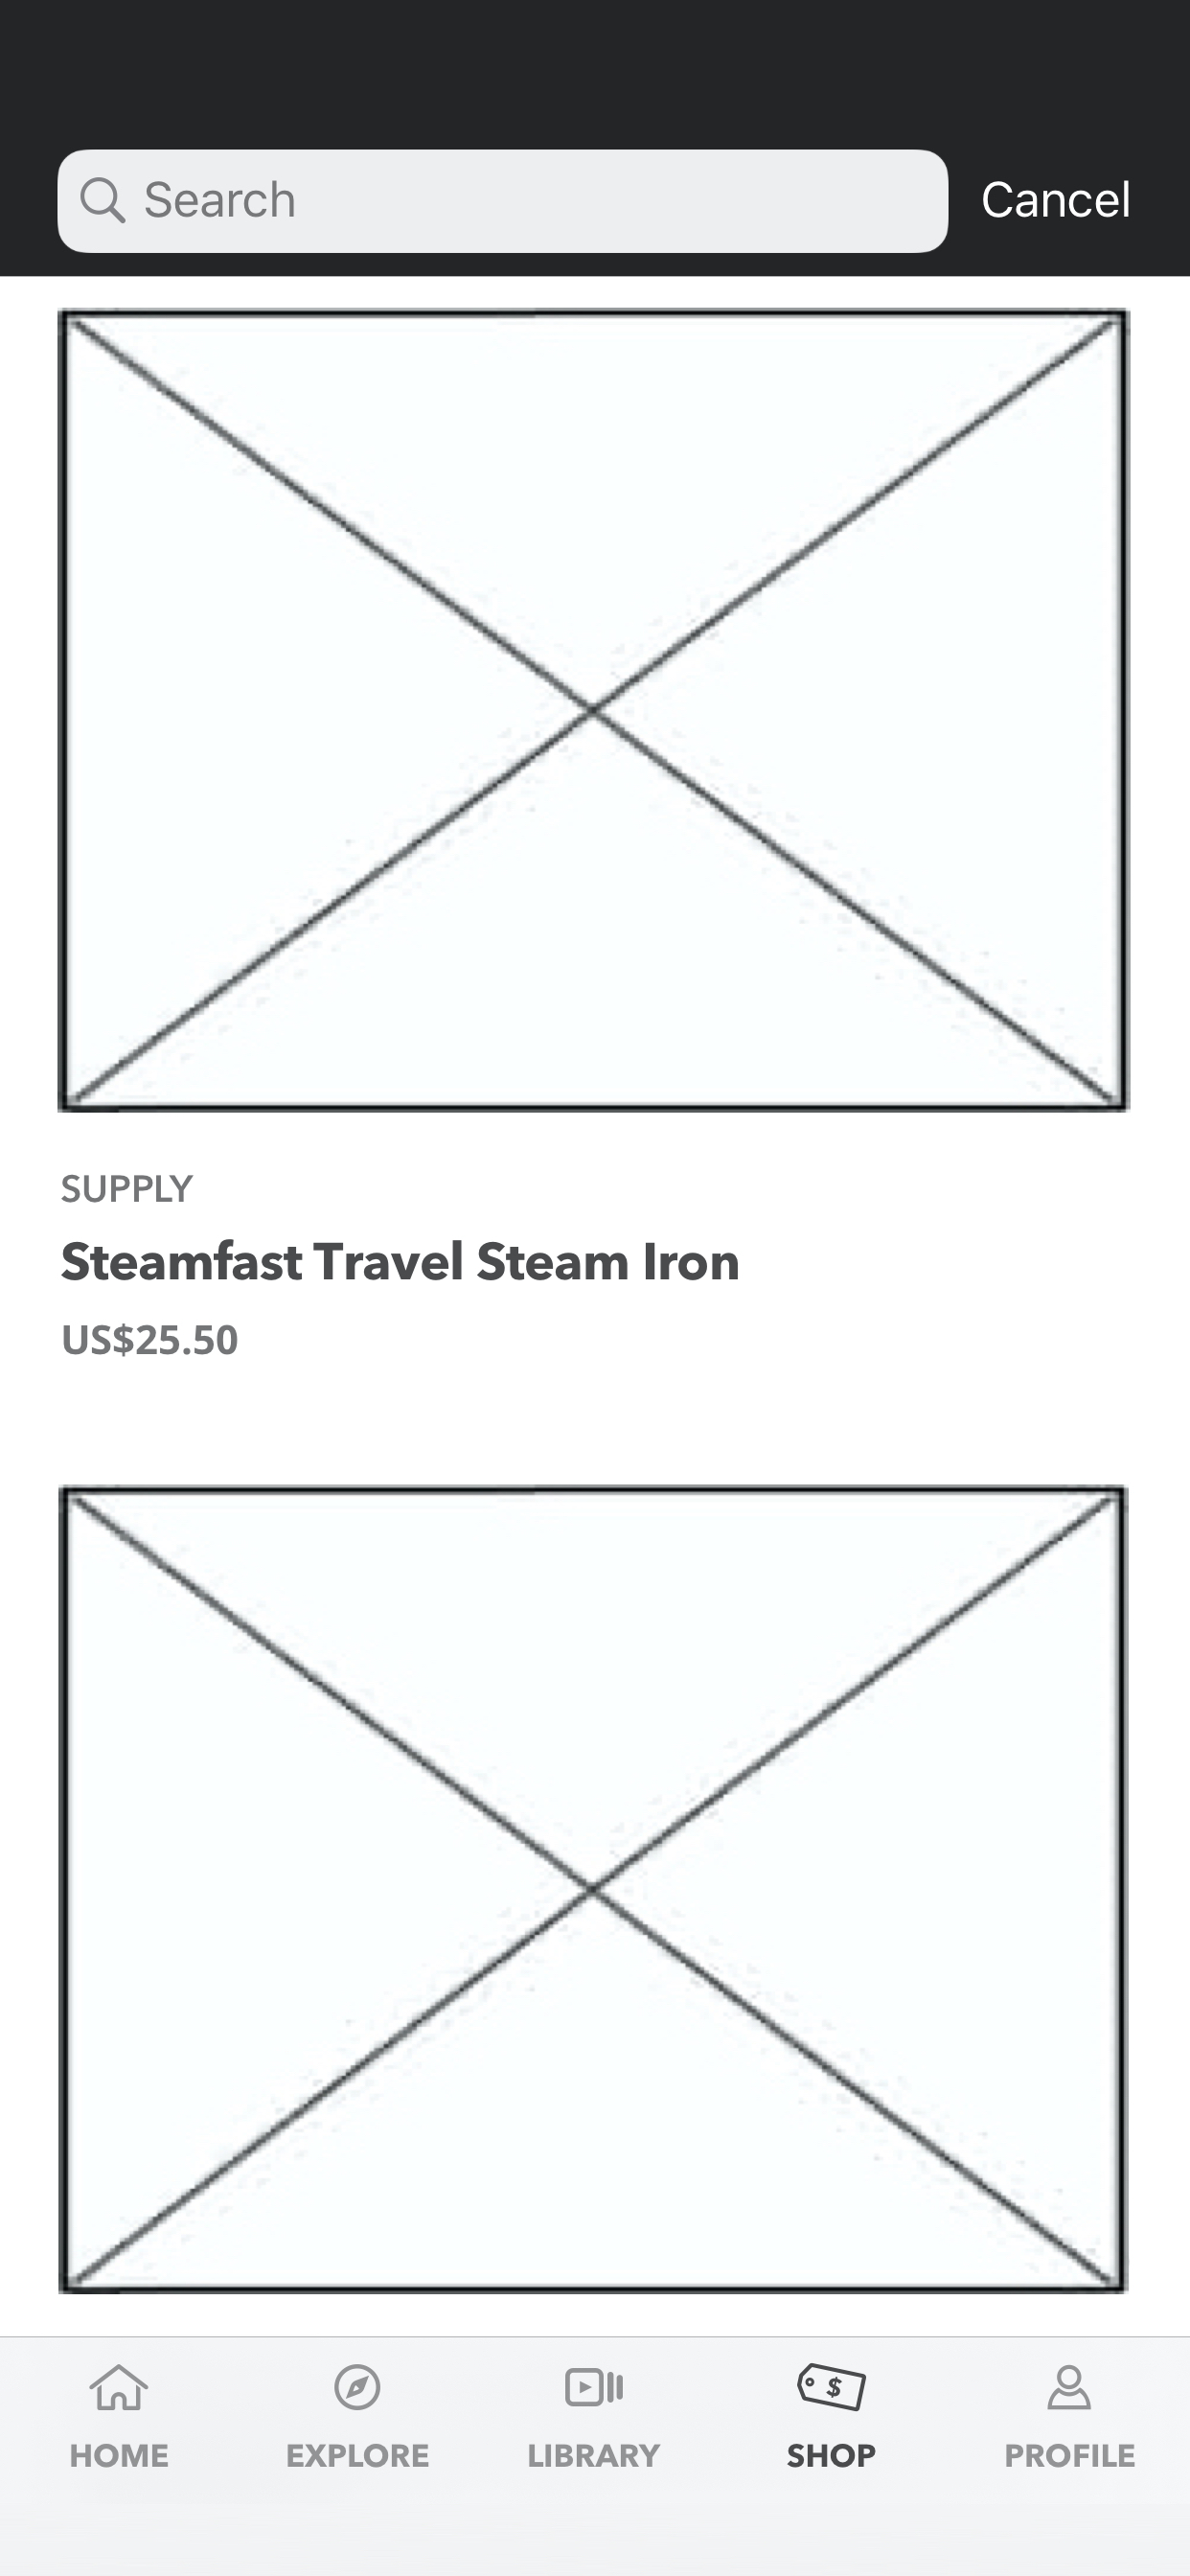EditText: (58, 148, 950, 255)
Icon: (797, 2361, 868, 2412), (90, 2362, 151, 2412), (334, 2362, 383, 2412), (564, 2367, 625, 2407), (81, 177, 128, 227), (1047, 2362, 1093, 2412)
Image: (54, 307, 1134, 1115), (59, 1483, 1129, 2297)
Text: (61, 1239, 740, 1281), (62, 1322, 240, 1359), (983, 179, 1129, 220), (146, 181, 296, 220), (61, 1175, 197, 1204), (288, 2443, 431, 2469), (1004, 2441, 1136, 2469), (528, 2443, 662, 2468), (71, 2443, 171, 2469), (787, 2443, 876, 2469)
